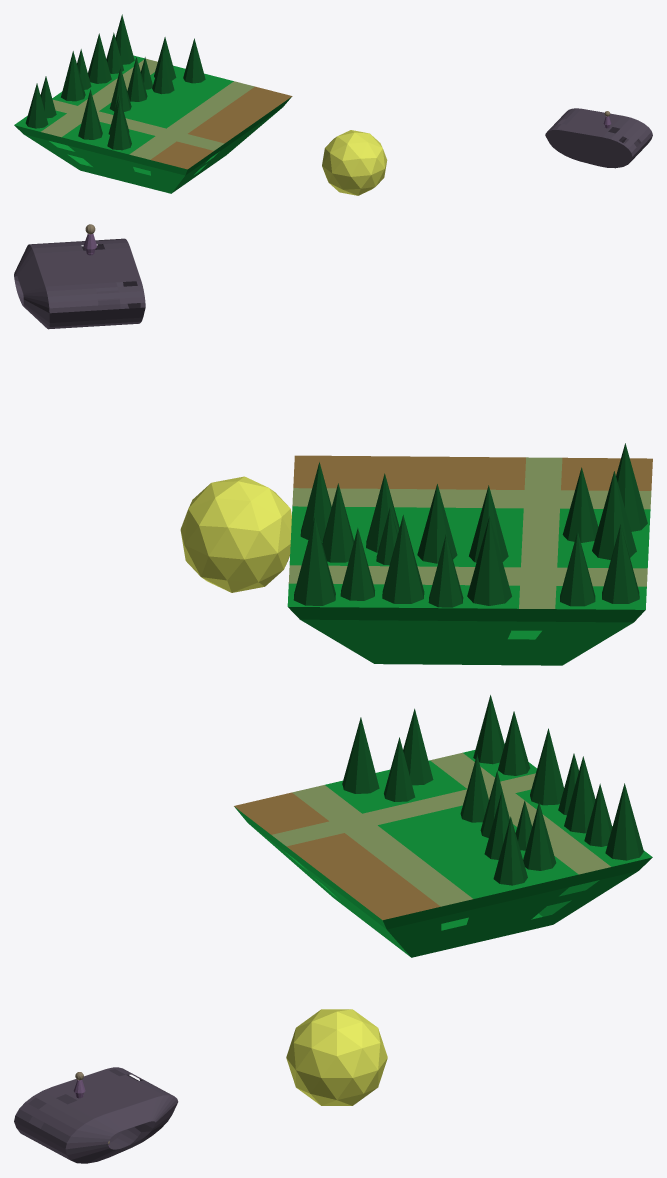
The model's file is project3.color1.glb.
3 renders of one model, top to bottom at view 1: azimuth 30°, elevation 25°; view 2: azimuth 150°, elevation 25°; view 3: azimuth 270°, elevation 25°, orthographic. The views are drawn at different scales.
Parts seen in each view (by area): view 1: Cube.002, Cube, sun, Cone, Cone.007, Cone.005, Cone.008, Cone.001, Cone.015, Cone.014, Cone.004, Cone.010 (+5 smaller); view 2: Cube.002, sun, Cube, Cone.007, Cone.010, Cone.008, Cone, Cone.001, Cone.004, Cone.012, Cone.002, Cone.006 (+7 smaller); view 3: Cube.002, Cube, sun, Cone.010, Cone.005, Cone.007, Cone.008, Cone.015, Cone, Cone.012, Cone.001, Cone.002 (+4 smaller).
Part boxes in pixels (x1,y1,x2,y2): Cube.002: [14, 55, 292, 193]; Cube: [545, 108, 652, 168]; sun: [322, 130, 387, 195]; Cone: [78, 89, 102, 139]; Cone.007: [61, 51, 85, 101]; Cone.005: [107, 100, 131, 150]; Cone.008: [88, 33, 111, 83]; Cone.001: [25, 83, 48, 128]; Cone.015: [183, 38, 205, 83]; Cone.014: [152, 49, 174, 94]; Cone.004: [127, 57, 147, 101]; Cone.010: [115, 14, 134, 64]; Cube.002: [287, 455, 652, 665]; sun: [180, 476, 291, 592]; Cube: [14, 238, 145, 329]; Cone.007: [467, 516, 511, 605]; Cone.010: [293, 516, 335, 605]; Cone.008: [382, 515, 424, 603]; Cone: [592, 471, 636, 559]; Cone.001: [602, 524, 639, 603]; Cone.004: [417, 484, 457, 563]; Cone.012: [322, 483, 353, 562]; Cone.002: [560, 531, 595, 606]; Cone.006: [562, 467, 598, 542]; Cube.002: [234, 743, 652, 957]; Cube: [14, 1067, 178, 1163]; sun: [286, 1009, 387, 1105]; Cone.010: [605, 783, 643, 860]; Cone.005: [342, 717, 379, 793]; Cone.007: [530, 728, 563, 805]; Cone.008: [564, 756, 595, 833]; Cone.015: [493, 816, 527, 885]; Cone: [403, 708, 433, 785]; Cone.012: [523, 802, 556, 870]; Cone.001: [473, 695, 504, 764]; Cone.002: [498, 711, 530, 775].
Bounding box in the file's own units: 67.99 × 18.85 × 49.96.
